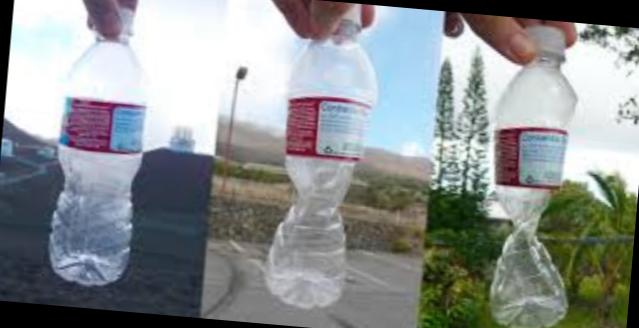plastic: (265, 7, 377, 306), (48, 4, 149, 283), (489, 26, 577, 327)
